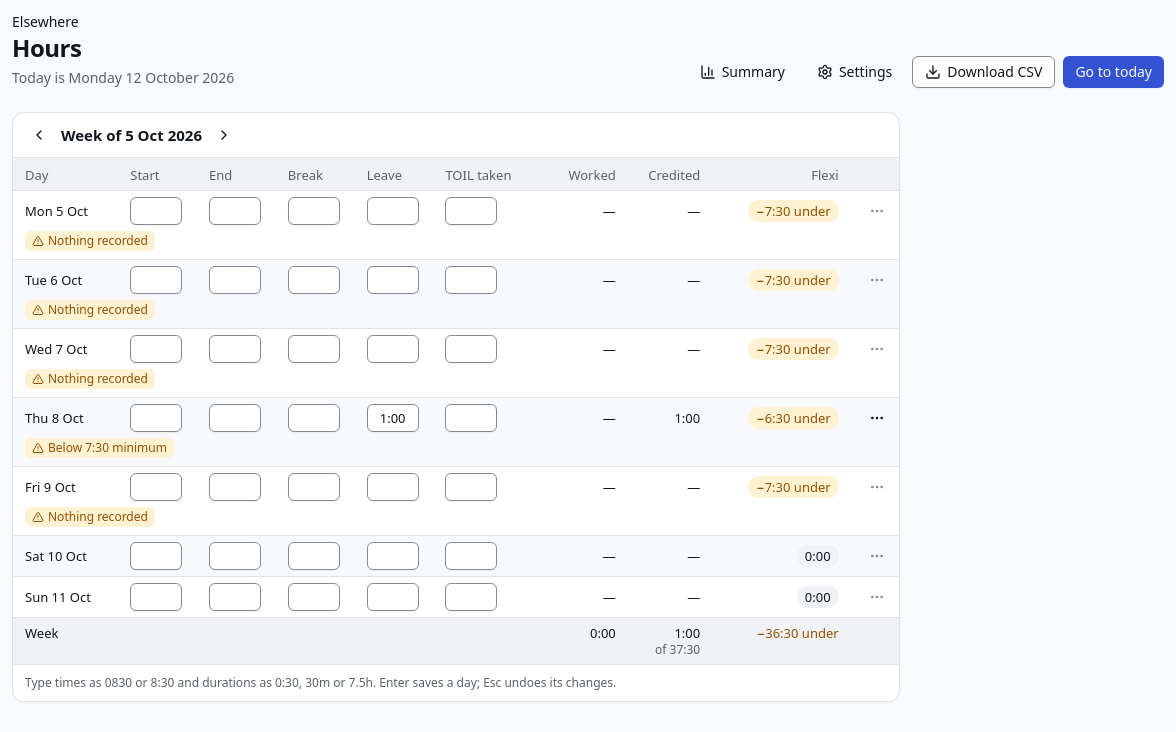
Test: WeekView › offers to reload when the day changed elsewhere
expect the heading "Hours" is shown: met, box [12, 31, 81, 64]
Clear the field named "Leave, Thu 8 Oct" at (393, 418), box [367, 404, 419, 432]
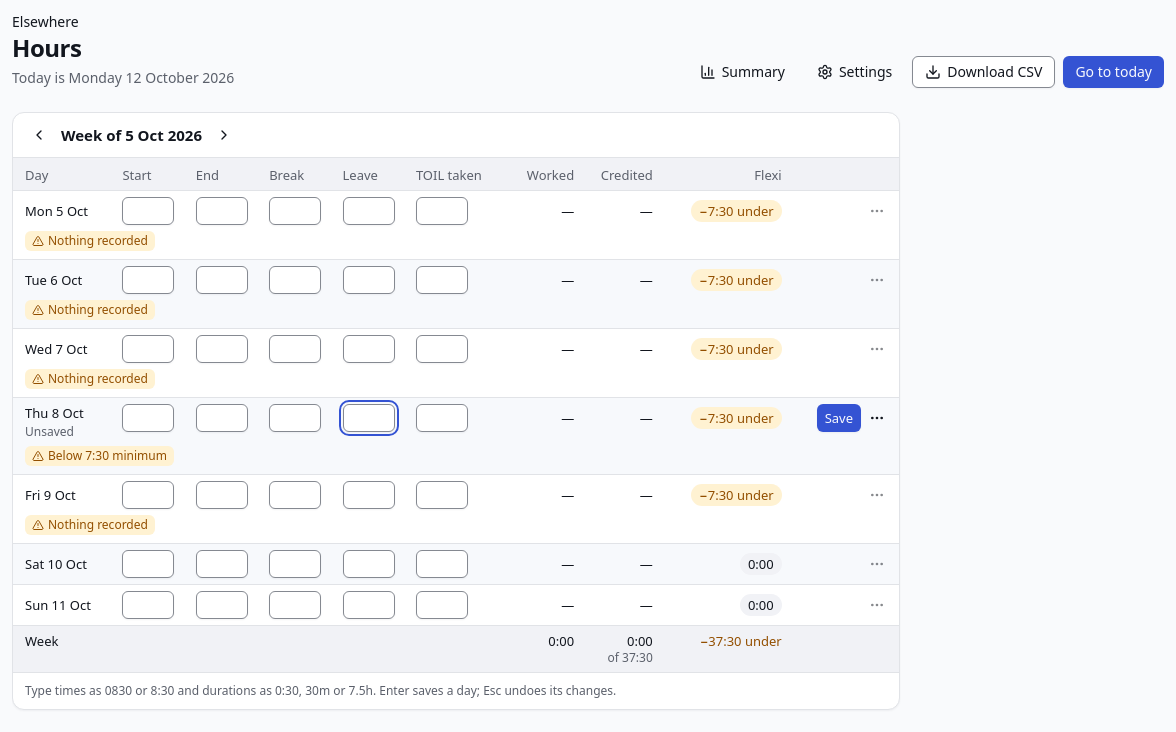
Type "2h" into the field named "Leave, Thu 8 Oct" at (368, 418), box [342, 404, 394, 432]
Then press Enter
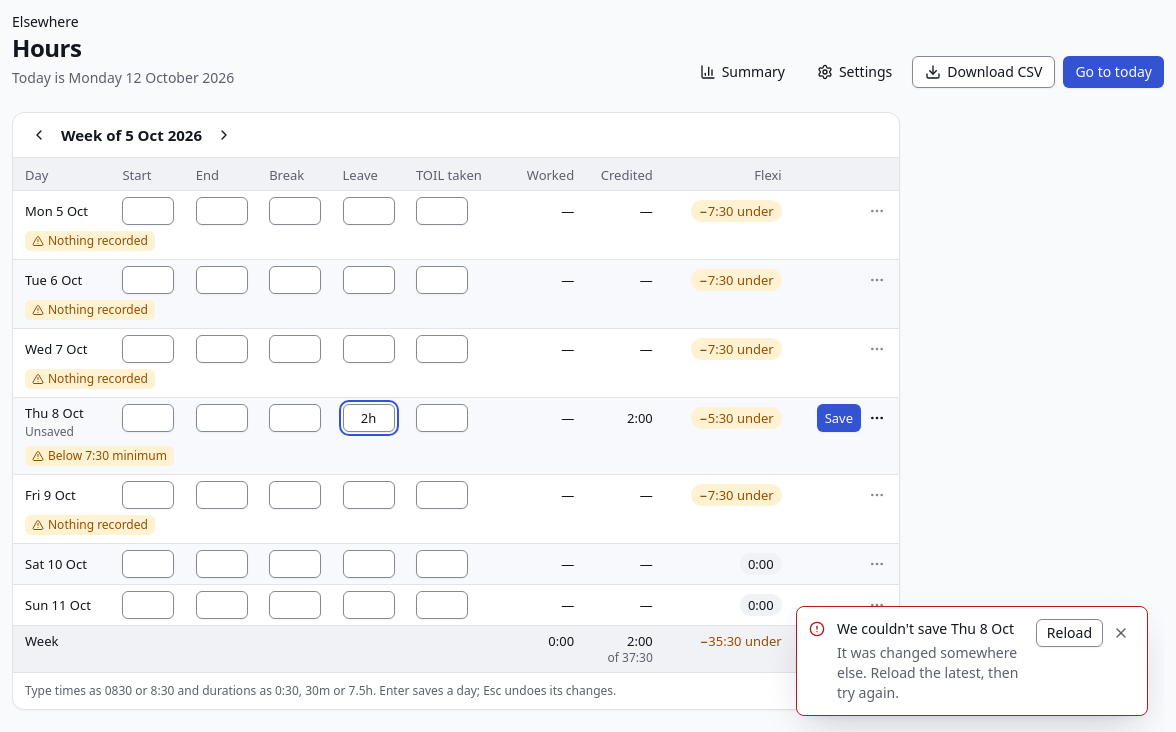
expect the text "We couldn't save Thu 8 Oct" is shown: met, box [837, 619, 1024, 639]
Click the button "Reload" at (1069, 633), box [1036, 619, 1103, 647]
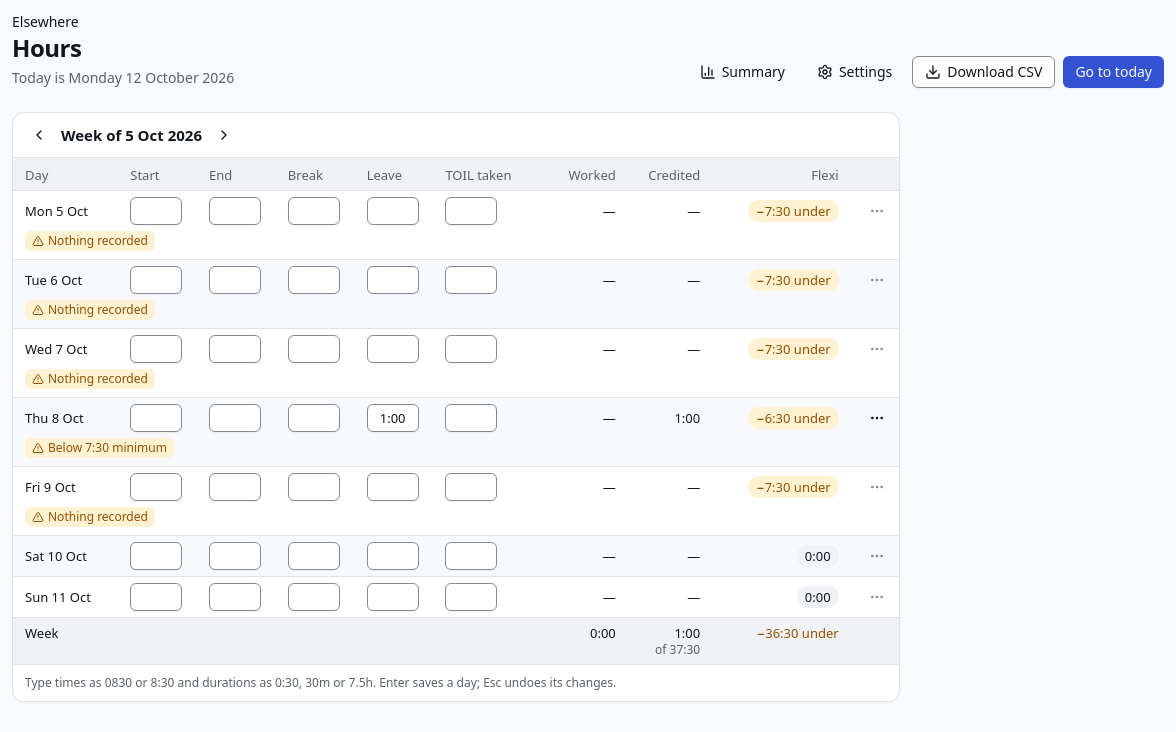
expect the field named "Leave, Thu 8 Oct" holds "1:00": met, box [367, 404, 419, 432]
